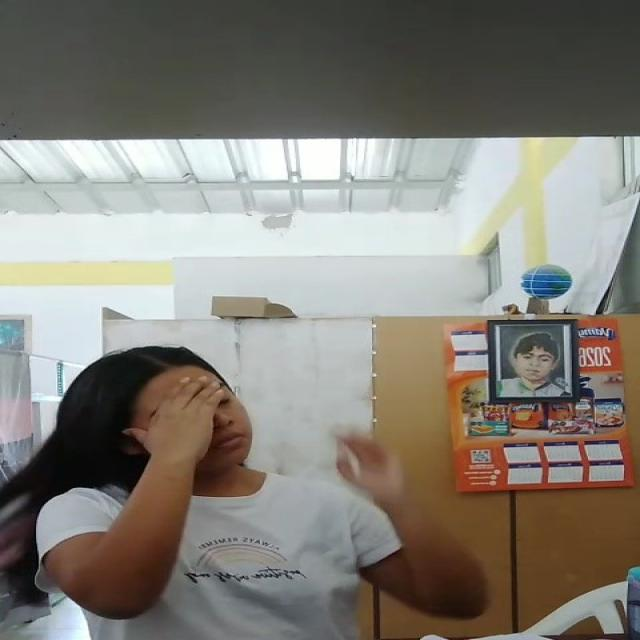7_mano_rostro: (124, 375, 226, 473)
